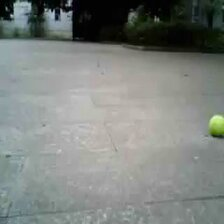tennis: (209, 115, 224, 136)
